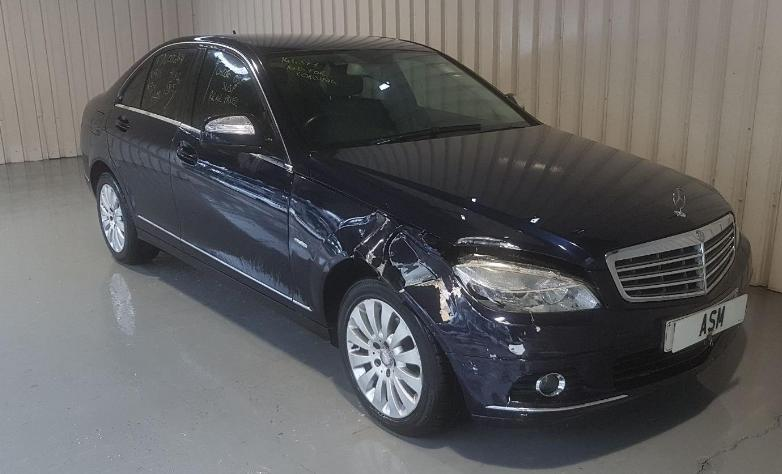Back-door: (106, 41, 205, 251)
Back-wheel: (97, 171, 160, 264)
Back-window: (119, 48, 196, 120)
Fender: (288, 172, 458, 326)
Front-bumper: (399, 231, 752, 429)
Front-door: (170, 41, 295, 309)
Front-wheel: (337, 278, 466, 435)
Front-window: (192, 49, 273, 131)
Grille: (605, 213, 739, 302)
Headlight: (451, 246, 605, 312)
Hood: (308, 124, 736, 270)
License-plate: (672, 294, 746, 352)
Mirror: (199, 113, 285, 159), (504, 93, 527, 112)
Quarter-panel: (79, 93, 138, 227)
Rocker-panel: (135, 225, 331, 344)
Roof: (153, 34, 440, 56)
Windshield: (257, 48, 544, 150)
